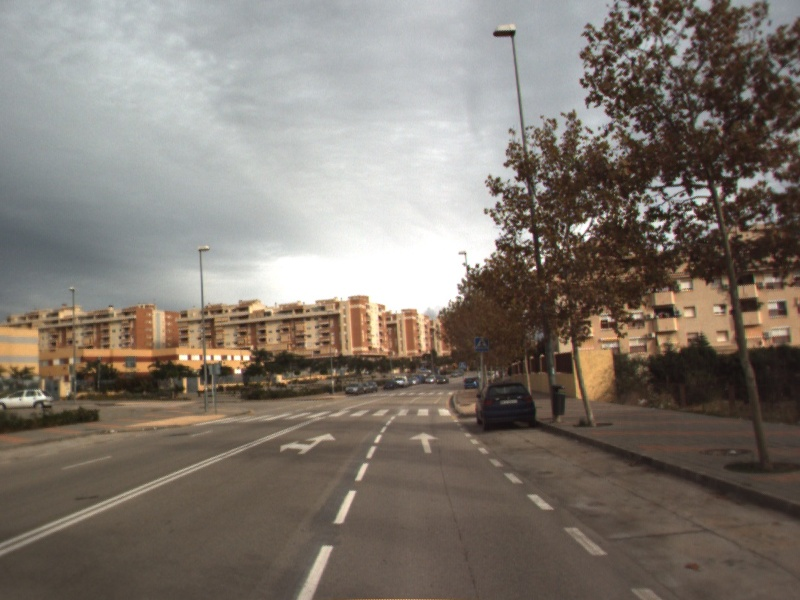STRAIGHT: (408, 430, 441, 455)
STRAIGHT_LEFT: (278, 431, 338, 456)
